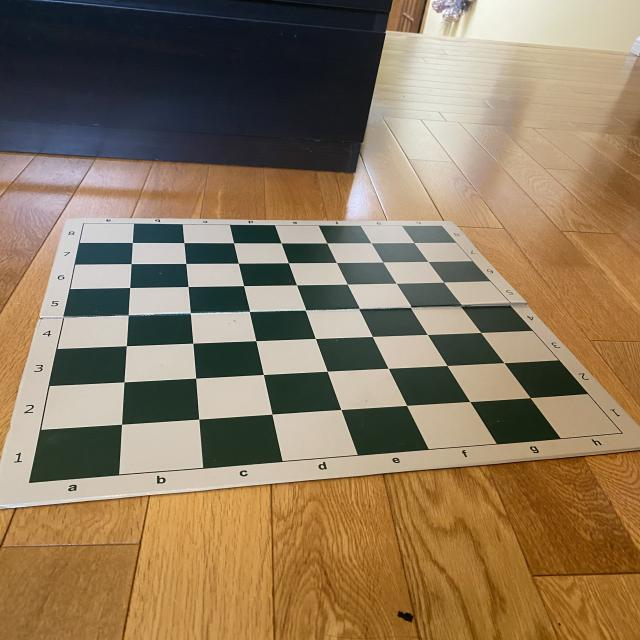Chessboard-Corners: (22, 479, 42, 490), (74, 219, 91, 229), (615, 429, 629, 438), (436, 222, 448, 231)
